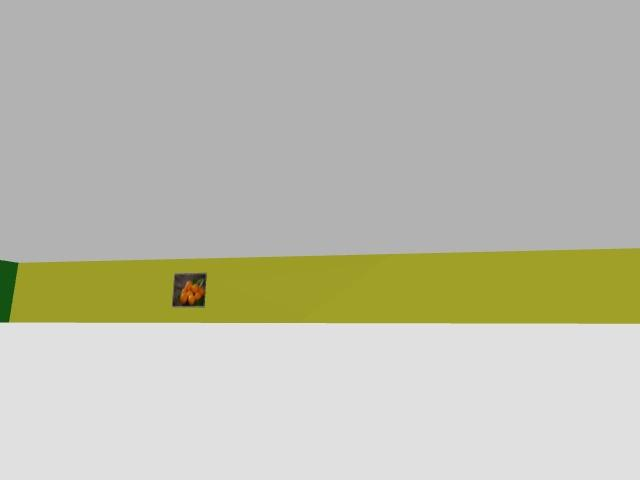orange: (180, 292, 187, 304), (191, 284, 199, 294), (188, 294, 195, 305), (194, 291, 201, 300), (181, 291, 190, 298), (185, 281, 191, 289), (199, 286, 204, 295), (181, 287, 189, 292), (201, 288, 205, 296), (202, 287, 205, 293)
